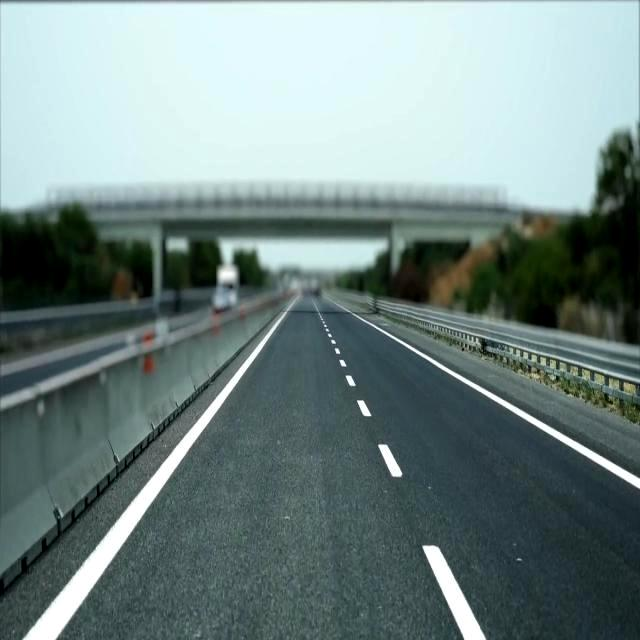lane: (22, 296, 298, 639), (336, 304, 640, 489), (423, 545, 486, 639), (378, 444, 402, 477), (358, 400, 371, 416)
road: (58, 297, 639, 639), (0, 340, 257, 639)
